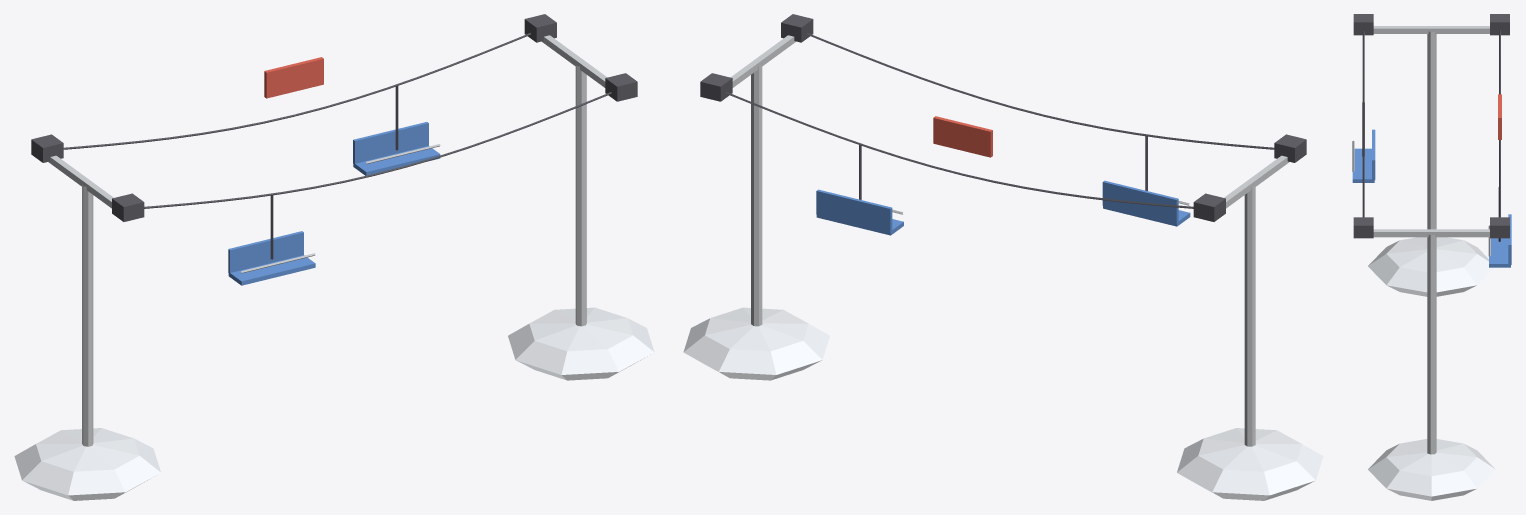
File: happogahara_chairlift.glb
3 views of the same model, side by side, from view 1: azimuth 30°, elevation 25°; view 2: azimuth 150°, elevation 25°; view 3: azimuth 270°, elevation 25° (orthographic). The views are drawn at different scales.
Visible parts, largest first — view 1: happogahara_chairlift; view 2: happogahara_chairlift; view 3: happogahara_chairlift.
Part boxes in pixels (x1=…): happogahara_chairlift: x1=14, y1=14, x2=654, y2=500; happogahara_chairlift: x1=683, y1=14, x2=1323, y2=500; happogahara_chairlift: x1=1352, y1=14, x2=1511, y2=500.
Bounding box in the file's own units: 15.2 × 7.68 × 3.97.
